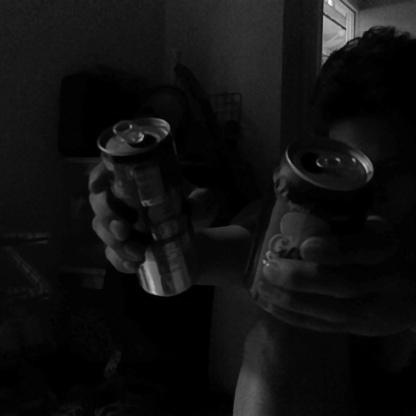alumunium_can: (242, 134, 374, 312), (96, 111, 200, 293)
